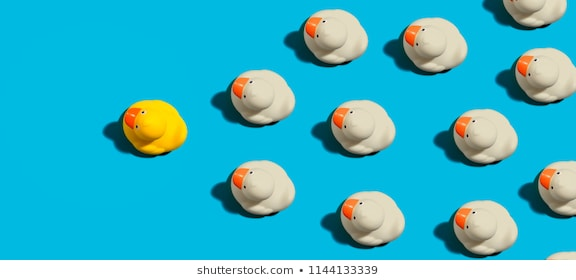duck: (106, 95, 198, 161), (220, 64, 301, 133)
